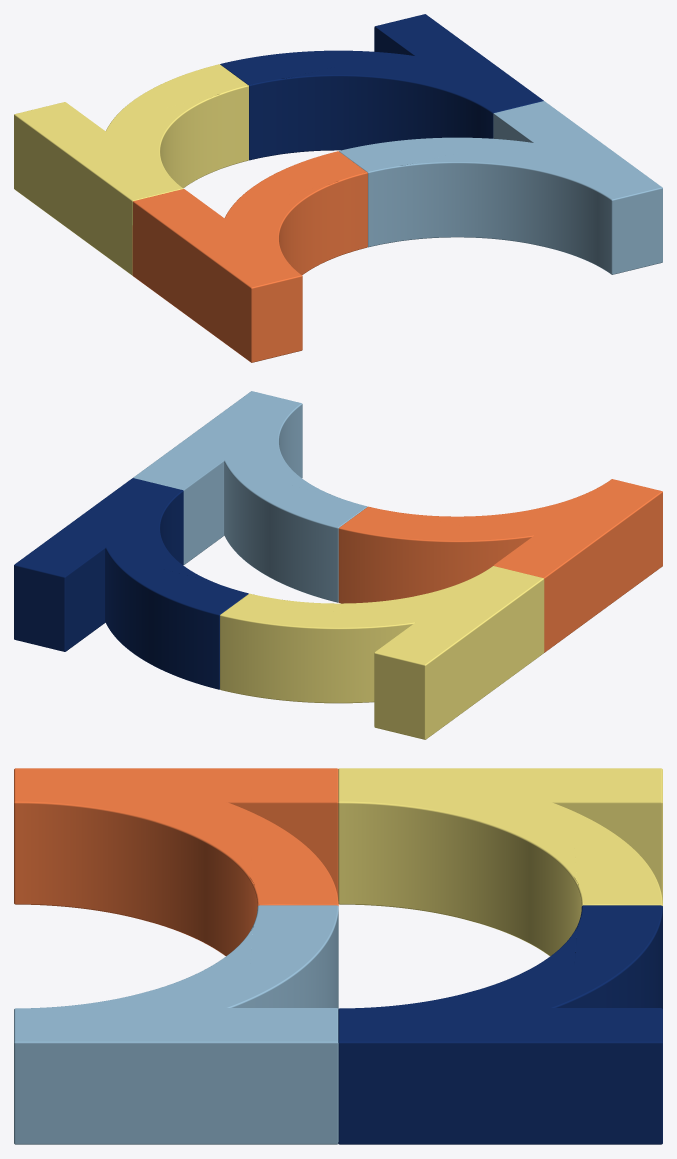
The model's file is orbe.glb.
The picture shows the model from 3 angles, top to bottom: view 1: azimuth 30°, elevation 25°; view 2: azimuth 150°, elevation 25°; view 3: azimuth 270°, elevation 25°; orthographic projection. The views are drawn at different scales.
Visible parts, largest first — view 1: Logo_BR_LightBlue, Logo_BL_Orange, Logo_TR_Blue, Logo_TL_Gold; view 2: Logo_TL_Gold, Logo_BL_Orange, Logo_TR_Blue, Logo_BR_LightBlue; view 3: Logo_BR_LightBlue, Logo_TR_Blue, Logo_BL_Orange, Logo_TL_Gold.
Part boxes in pixels (<box>): Logo_BR_LightBlue: <box>339,101,662,274</box>; Logo_BL_Orange: <box>132,151,367,362</box>; Logo_TR_Blue: <box>220,14,543,160</box>; Logo_TL_Gold: <box>14,64,248,275</box>; Logo_TL_Gold: <box>220,566,544,739</box>; Logo_BL_Orange: <box>338,479,662,652</box>; Logo_TR_Blue: <box>14,478,248,689</box>; Logo_BR_LightBlue: <box>133,391,367,602</box>; Logo_BR_LightBlue: <box>14,905,338,1144</box>; Logo_TR_Blue: <box>338,905,662,1144</box>; Logo_BL_Orange: <box>14,768,338,955</box>; Logo_TL_Gold: <box>338,768,662,956</box>.
Bounding box in the file's own units: 8 × 1.4 × 8.
